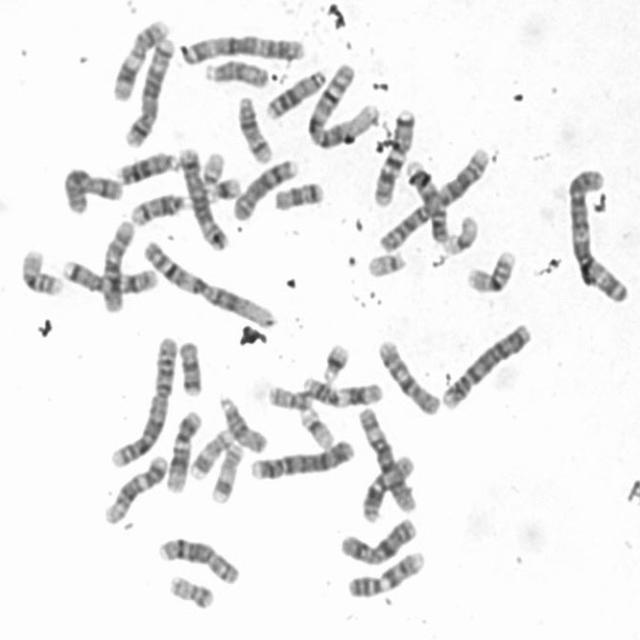A1: (137, 233, 278, 329), (304, 59, 385, 150)
A2: (373, 141, 492, 254), (106, 330, 180, 470)
A3: (564, 162, 632, 304), (177, 28, 308, 66)
B4: (438, 317, 534, 411), (246, 432, 358, 482)
B5: (120, 29, 176, 150), (176, 143, 231, 253)
C10: (372, 334, 443, 418), (94, 212, 136, 314)
C11: (108, 14, 172, 103), (296, 371, 384, 408)
C12: (98, 450, 168, 526), (162, 405, 204, 494)
C6: (353, 402, 419, 514), (361, 459, 414, 529)
C7: (369, 104, 418, 208), (59, 253, 160, 296)
C8: (228, 153, 302, 223), (154, 530, 242, 586)
C9: (343, 544, 428, 599), (400, 155, 450, 245)
D13: (263, 63, 330, 121), (113, 144, 183, 187)
D14: (234, 91, 276, 165), (128, 186, 192, 228)
D15: (215, 389, 270, 455), (200, 54, 272, 88)
E16: (463, 243, 519, 295), (15, 243, 66, 297)
E17: (186, 424, 236, 481), (206, 438, 246, 505)
E18: (270, 175, 325, 212), (175, 334, 205, 397)
F19: (294, 401, 338, 451), (438, 209, 480, 257)
F20: (164, 570, 217, 610), (265, 380, 313, 411)
G21: (318, 337, 353, 384), (203, 171, 243, 203)
G22: (362, 246, 408, 279), (198, 146, 227, 188)
X: (335, 513, 420, 567), (57, 160, 126, 216)
